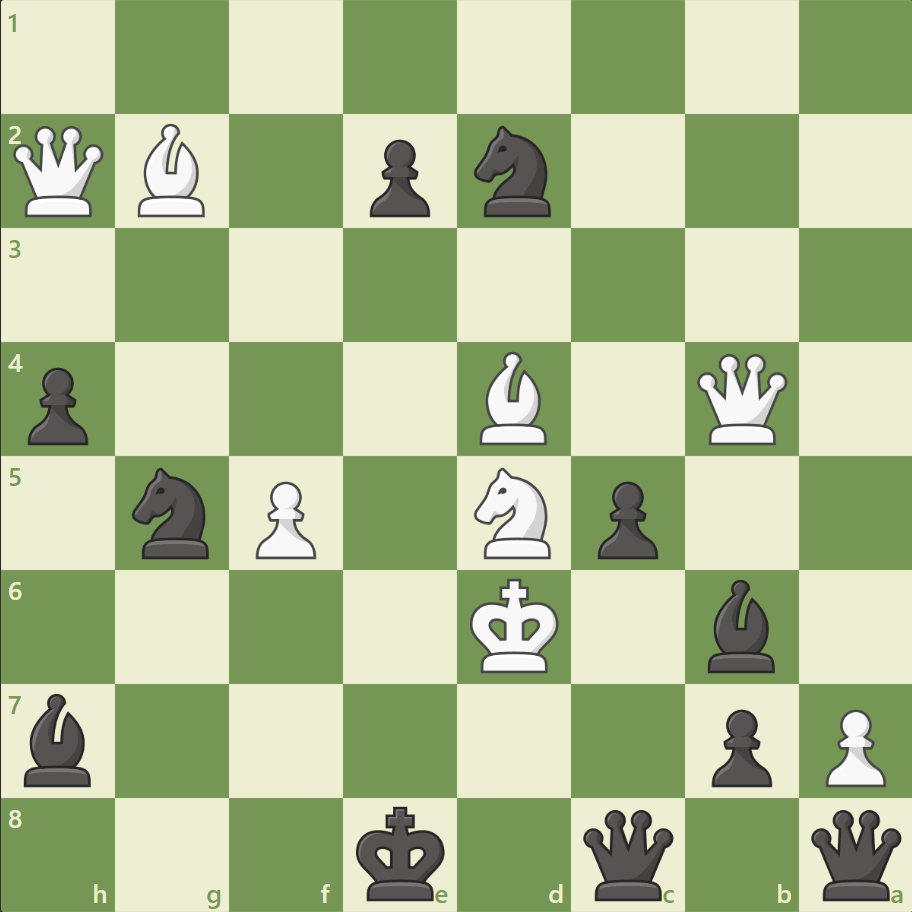B: (471, 347, 555, 449), (131, 120, 215, 222)
K: (465, 571, 565, 679)
N: (465, 461, 562, 564)
P: (247, 473, 322, 564), (815, 700, 889, 791)
Q: (691, 349, 790, 449), (10, 122, 109, 222)
b: (17, 687, 101, 790), (698, 574, 782, 676)
k: (351, 798, 451, 906)
n: (124, 461, 222, 564), (465, 121, 562, 223)
p: (701, 700, 776, 791), (20, 359, 95, 450), (588, 473, 662, 564), (361, 132, 435, 223)
q: (805, 804, 904, 903), (578, 804, 677, 903)
